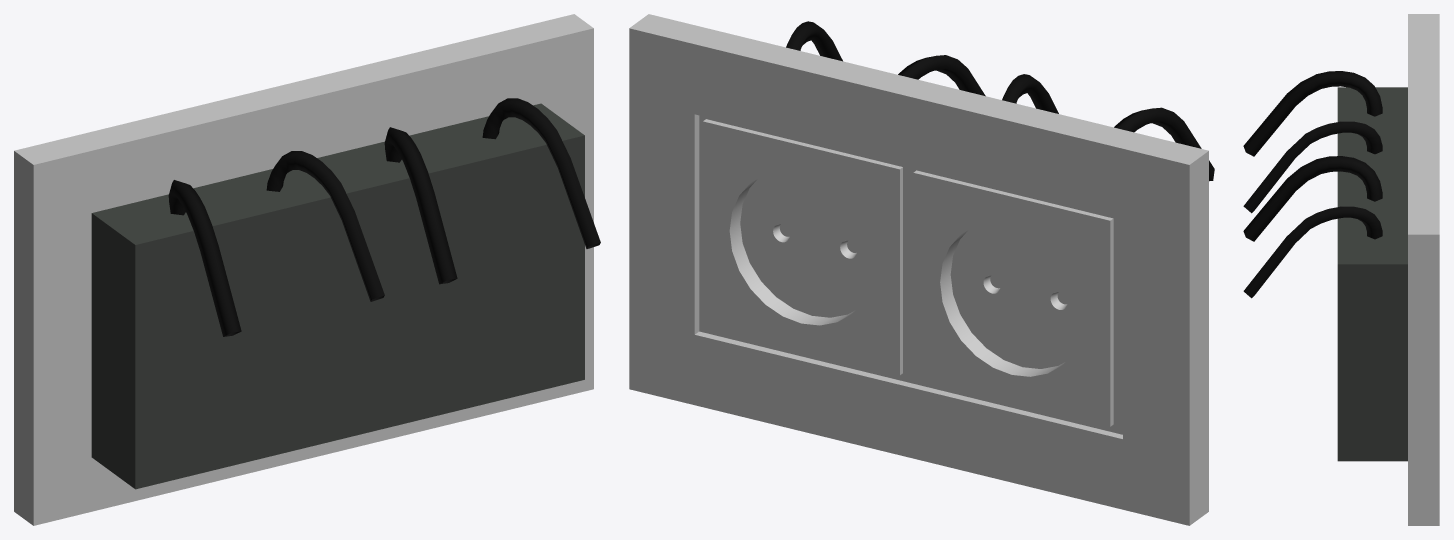
Rendered from Vagon_CR_Details_03.fbx.
3 views of the same model, side by side, from view 1: azimuth 30°, elevation 25°; view 2: azimuth 150°, elevation 25°; view 3: azimuth 270°, elevation 25° (orthographic). The views are drawn at different scales.
Parts seen in each view (by area): view 1: Vagon_CR_Details_01; view 2: Vagon_CR_Details_01; view 3: Vagon_CR_Details_01.
Boxes of the visible parts, x1=… form: Vagon_CR_Details_01: x1=14, y1=14, x2=600, y2=525; Vagon_CR_Details_01: x1=629, y1=14, x2=1214, y2=525; Vagon_CR_Details_01: x1=1243, y1=14, x2=1439, y2=525.
Size of the model in its own units: 0.0979 by 0.0603 by 0.0368.
